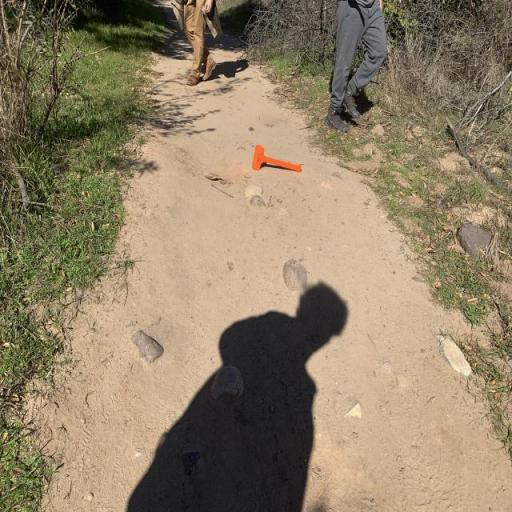mallet: (252, 144, 302, 173)
